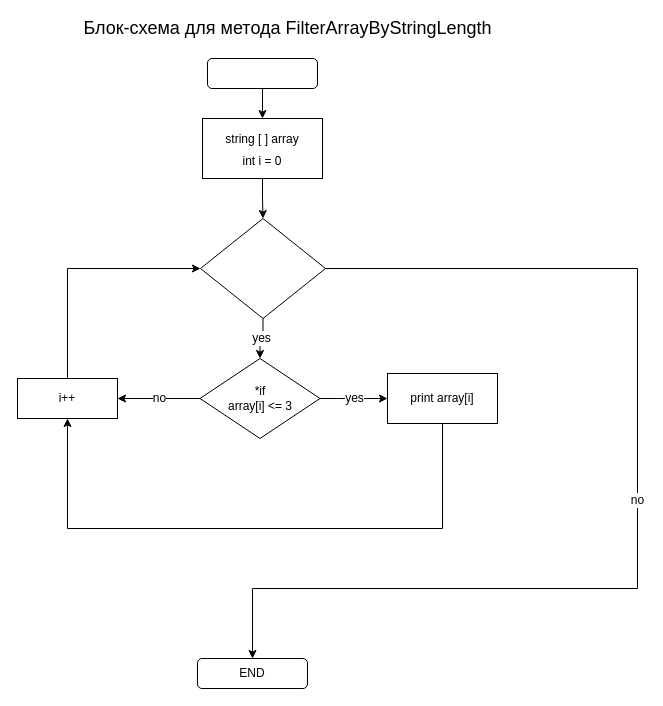
Image size: 663x706. Some labels were removed from this diagram. Here are the shapes that lost their labels. From the top down, the centre of each, then its label:
At point (262, 73): "START".
At point (263, 268): "*for i < array.Length".
